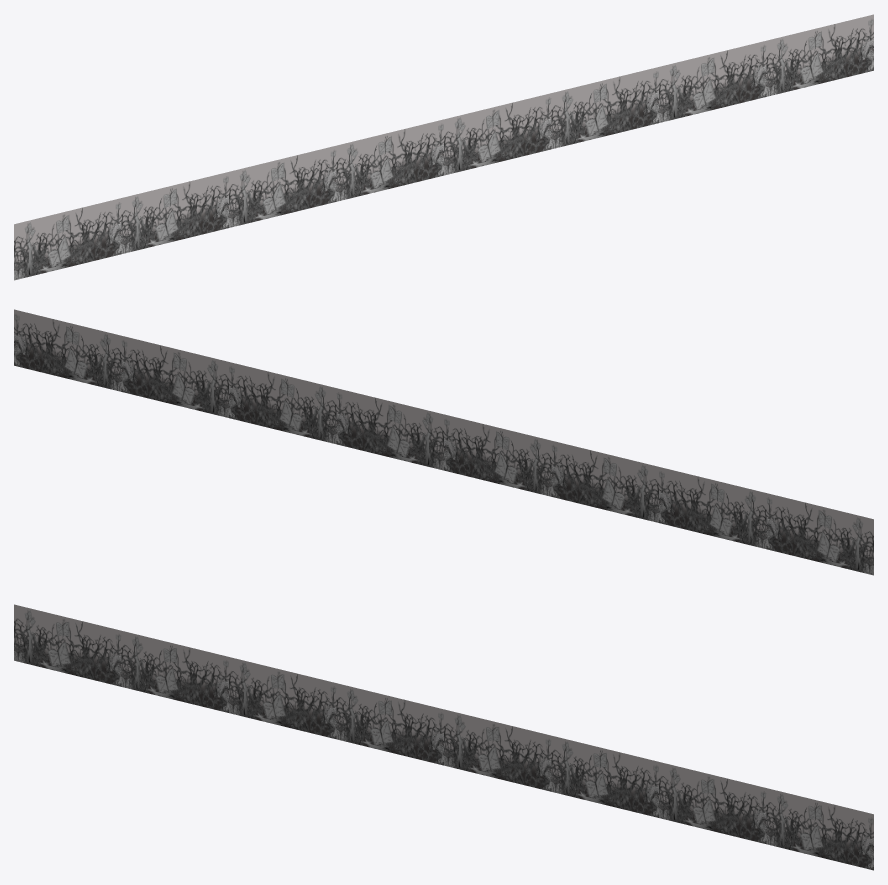
File: WallMazeX8.FBX
The picture shows the model from 3 angles, top to bottom: view 1: azimuth 30°, elevation 25°; view 2: azimuth 150°, elevation 25°; view 3: azimuth 330°, elevation 25°; orthographic projection.
Parts seen in each view (by area): view 1: WallMazeX8; view 2: WallMazeX8; view 3: WallMazeX8.
Boxes of the visible parts, x1,y1,x2,y2 form: WallMazeX8: [14, 14, 873, 280]; WallMazeX8: [14, 309, 873, 575]; WallMazeX8: [14, 604, 873, 870].
Size of the model in its own units: 81.92 by 5.12 by 2.74e-06.
